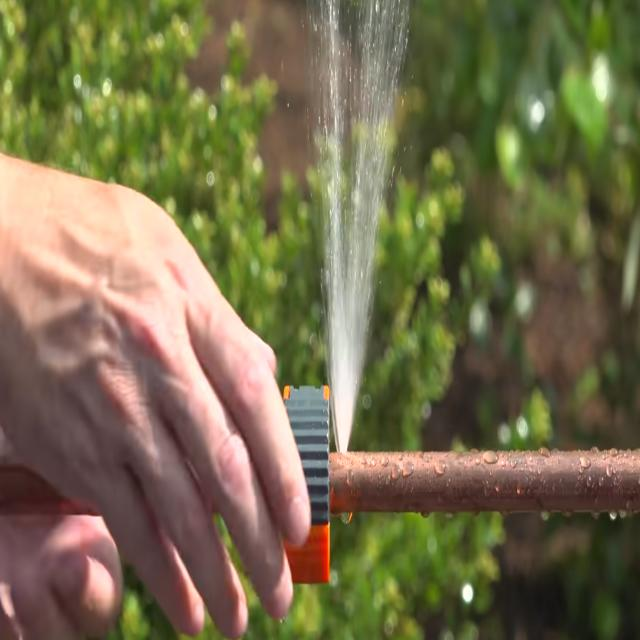leak: (310, 0, 409, 450)
